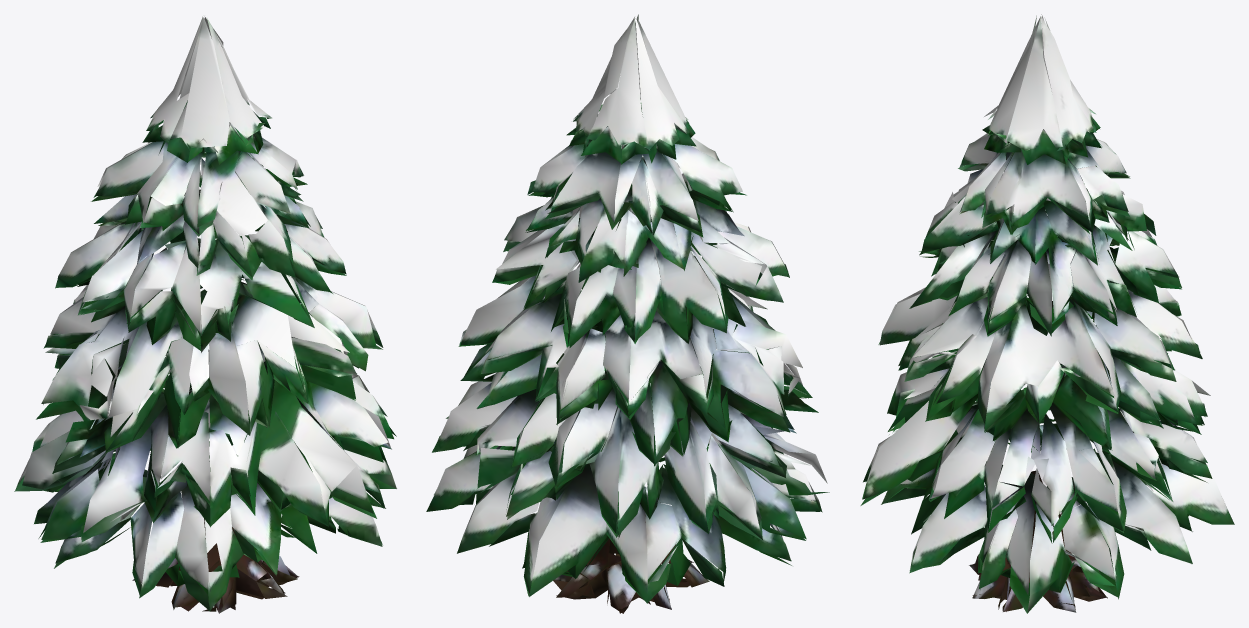
File: tree_gen_c.glb
3 views of the same model, side by side, from view 1: azimuth 30°, elevation 25°; view 2: azimuth 150°, elevation 25°; view 3: azimuth 270°, elevation 25° (orthographic).
Visible parts, largest first — view 1: tree_gen.002; view 2: tree_gen.002; view 3: tree_gen.002.
Boxes of the visible parts, x1,y1,x2,y2 form: tree_gen.002: [14, 16, 396, 613]; tree_gen.002: [426, 14, 829, 613]; tree_gen.002: [860, 14, 1234, 613].
Bounding box in the file's own units: 5.88 × 9.15 × 5.44.
1 material, 1 textured.
